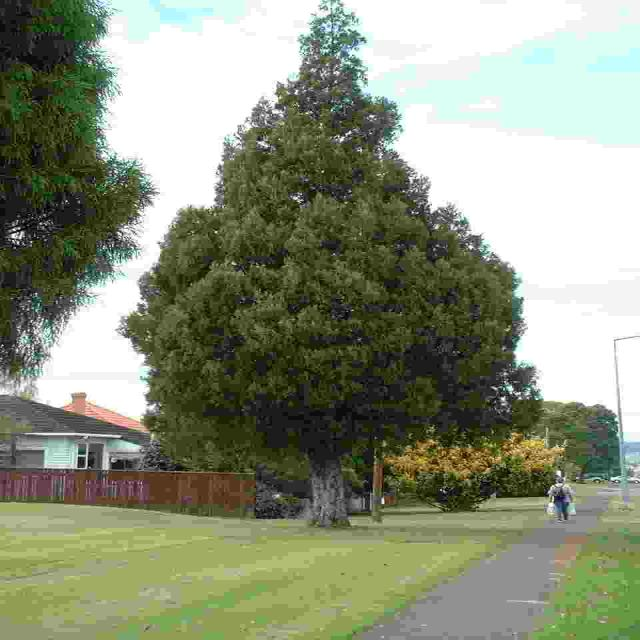Kahikatea: (167, 7, 458, 540)
